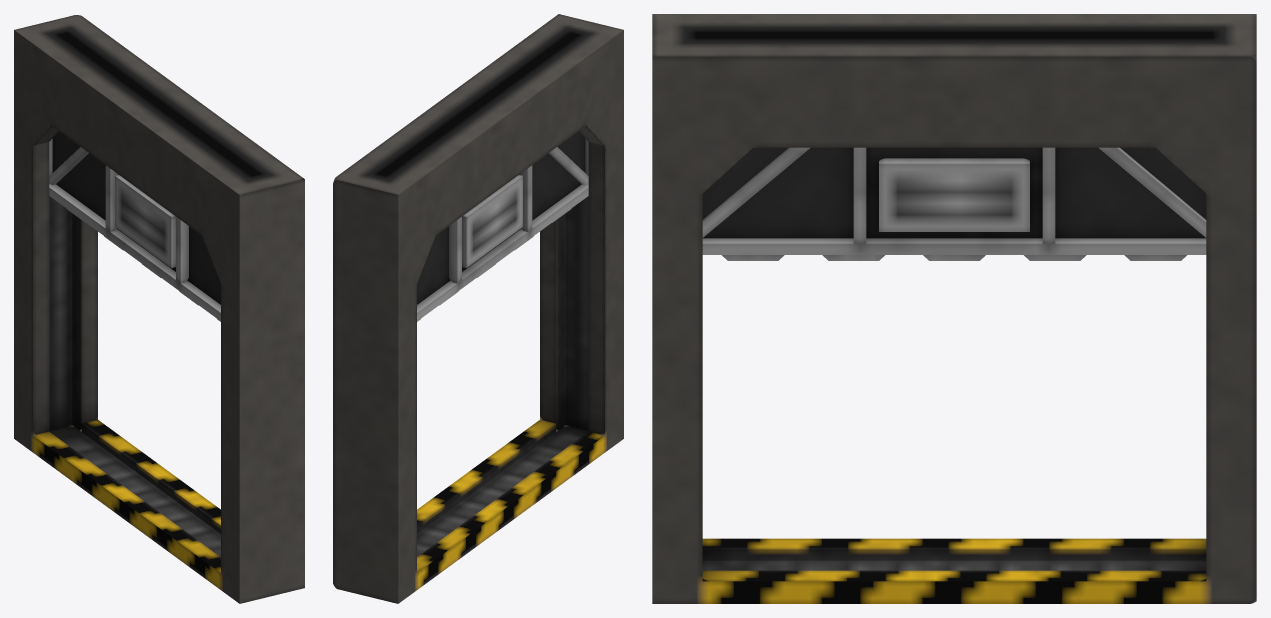
The model's file is qe_containment_123.obj.
3 views of the same model, side by side, from view 1: azimuth 30°, elevation 25°; view 2: azimuth 150°, elevation 25°; view 3: azimuth 270°, elevation 25° (orthographic). The views are drawn at different scales.
Visible parts, largest first — view 1: Frame, Door; view 2: Frame, Door; view 3: Frame, Door.
Boxes of the visible parts, x1,y1,x2,y2 form: Frame: (14, 15, 304, 603); Door: (49, 131, 220, 321); Frame: (333, 14, 623, 603); Door: (417, 131, 588, 321); Frame: (652, 14, 1256, 603); Door: (702, 147, 1206, 260).
Size of the model in its own units: 0.5 by 3 by 3.
